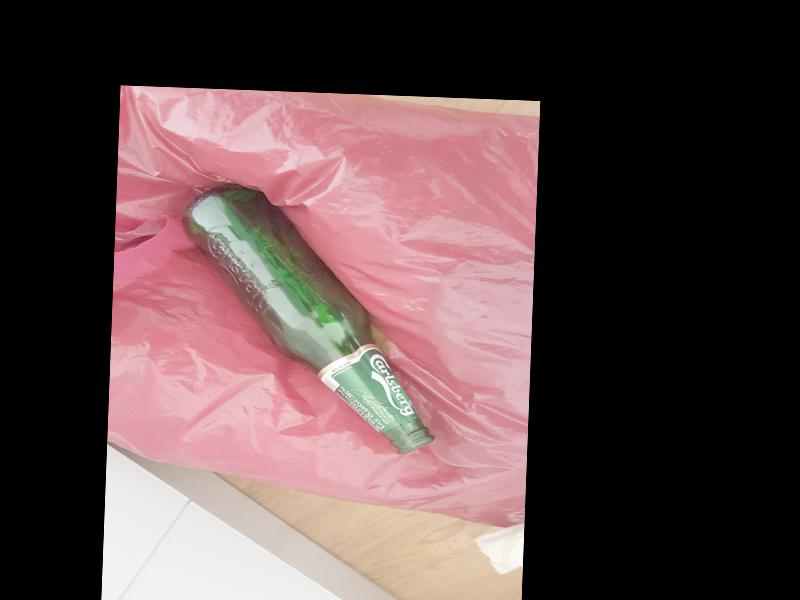Beer: (177, 183, 444, 455)
